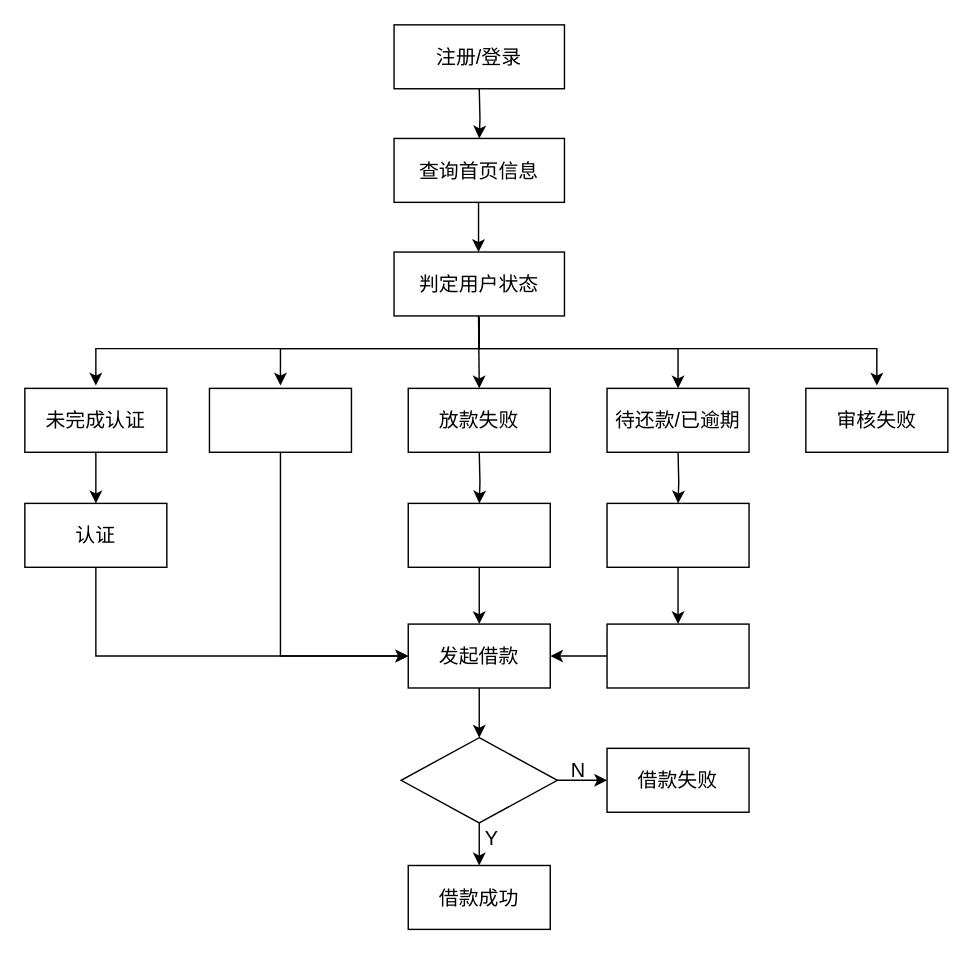
Some shapes in this 973 by 954 pixel diagram are drawn without their labels. The box of each missing label's shape, as (x1, y1, x2, y2) in pixels:
发起还款: (606, 502, 749, 567)
已认证/已还款: (208, 387, 351, 452)
是否借款成功: (400, 736, 557, 823)
绑卡: (407, 502, 550, 567)
还款成功: (606, 623, 749, 688)
